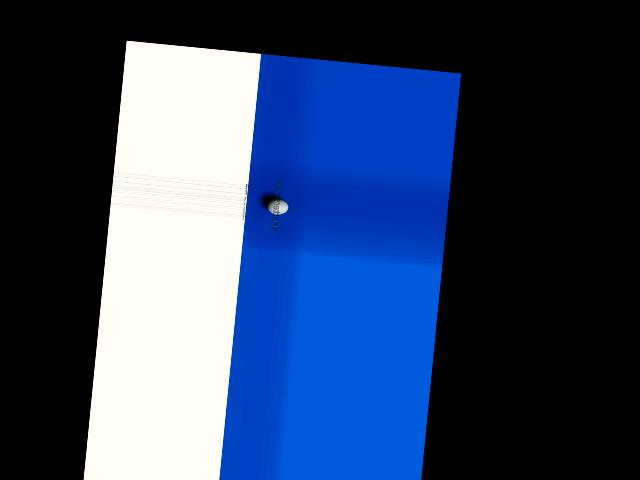egg: (266, 197, 289, 215)
